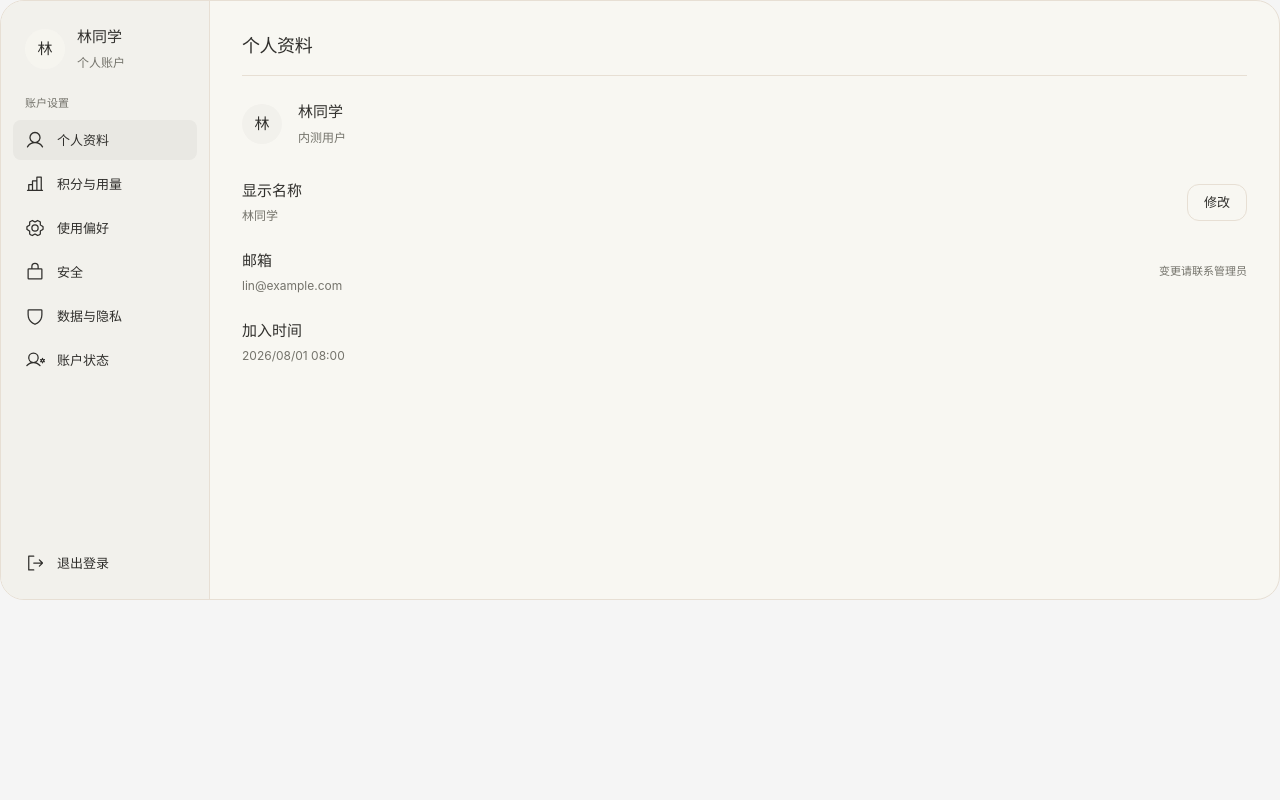
Test: AccountSettingsPage › reuses one mutation key after a network failure for the same user intent
Click the button with aria-label "修改显示名称" at x=1217, y=202, box [1187,184,1247,221]
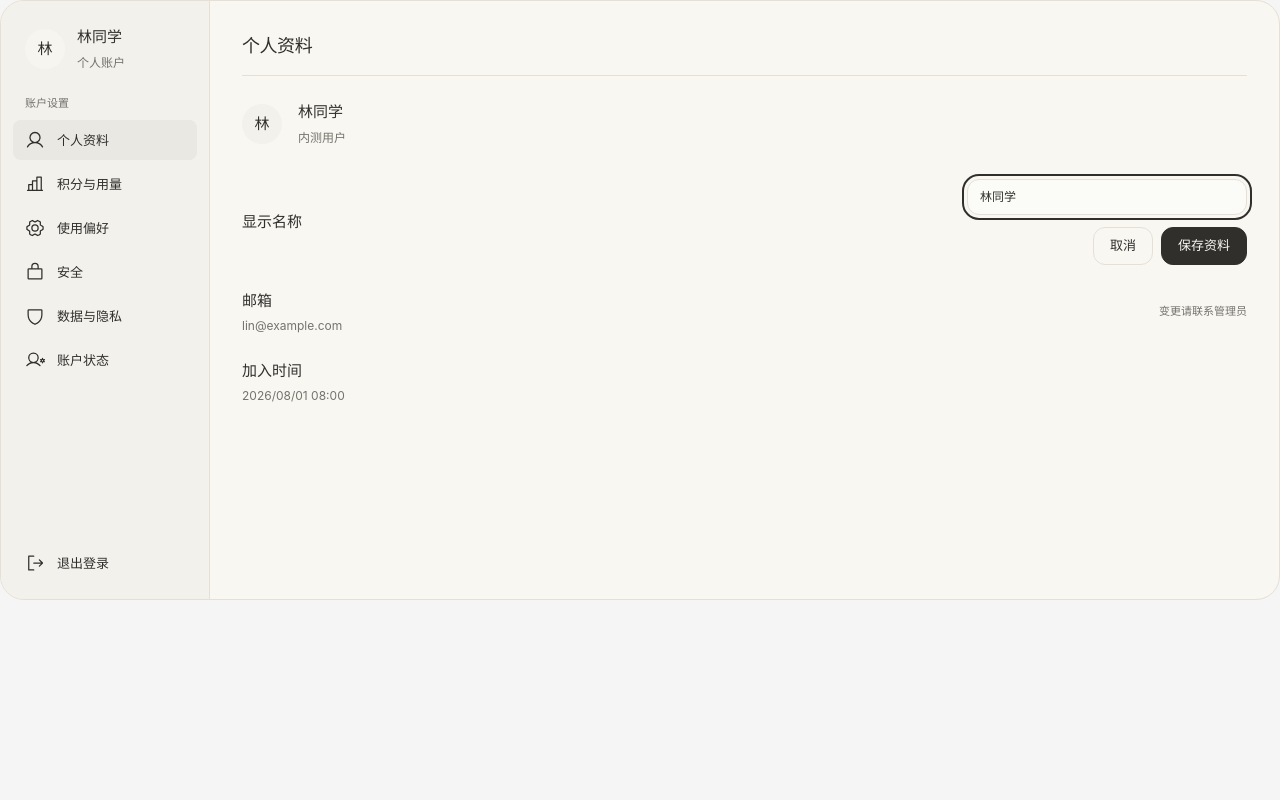
Replace the text in the field named "显示名称" with "林研究员" at x=1107, y=197, box [967,179,1247,215]
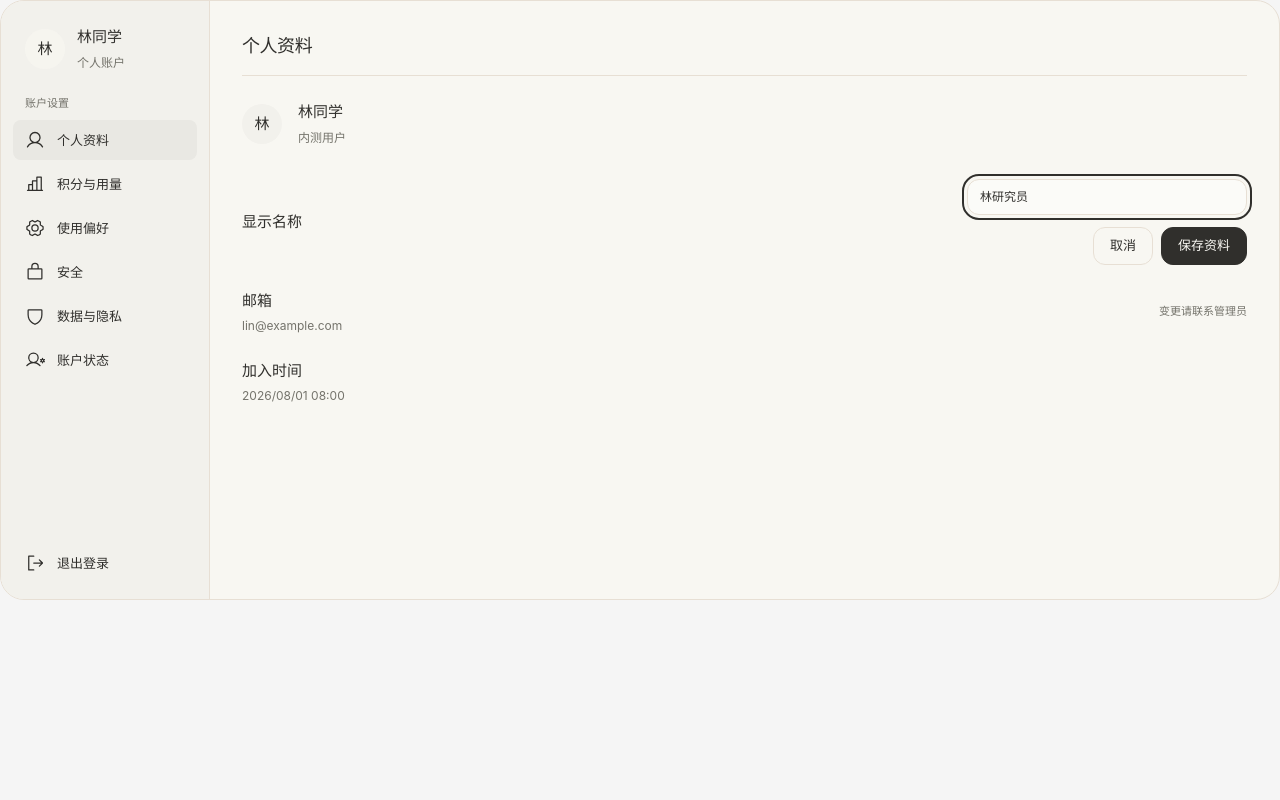
Click the button "保存资料" at x=1204, y=246, box [1161,227,1247,265]
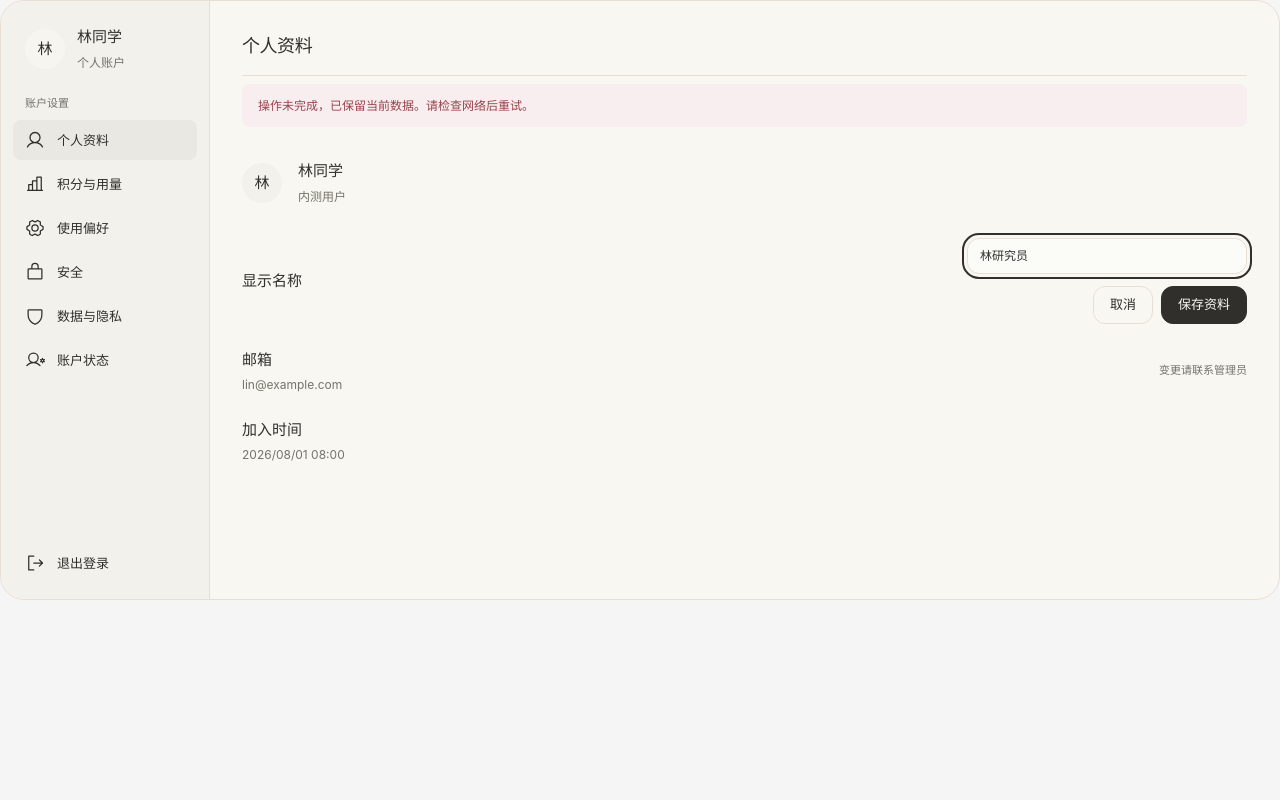
Result: the message shows "操作未完成" at [258,98,534,113]
Click the button "保存资料" at x=1204, y=305, box [1161,286,1247,324]
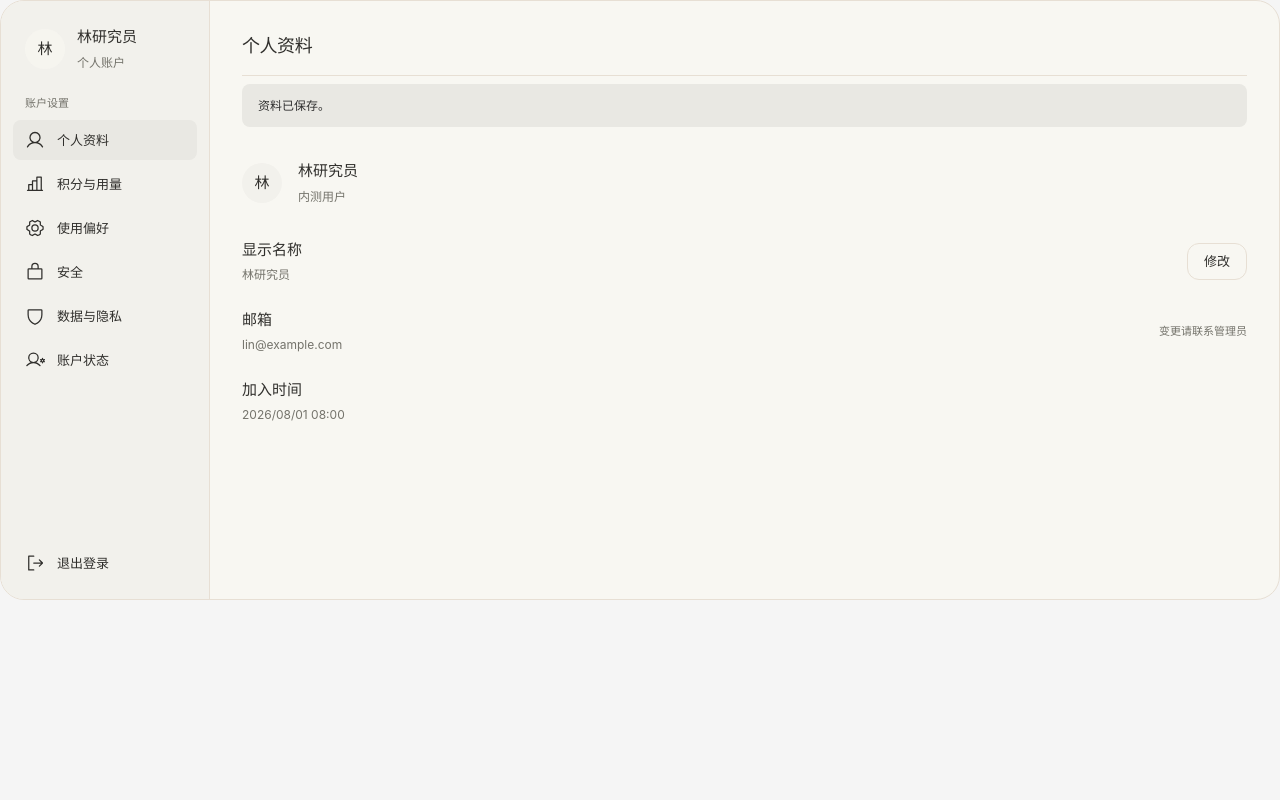
Result: the message shows "资料已保存" at [258,98,330,113]
